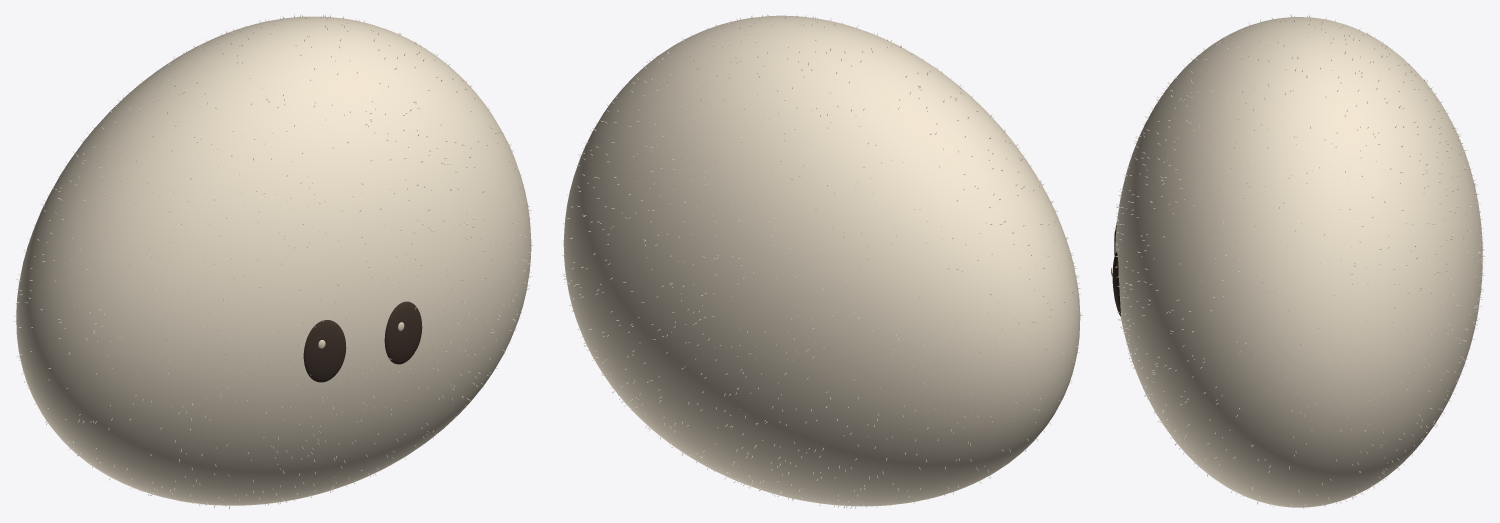
Rendered from pebble.glb.
The picture shows the model from 3 angles, left to right: view 1: azimuth 30°, elevation 25°; view 2: azimuth 150°, elevation 25°; view 3: azimuth 270°, elevation 25°; orthographic projection.
Parts seen in each view (by area): view 1: Pebble · felt body, Felt fibres · 1800 individual solid strands, Eye L, Eye R; view 2: Pebble · felt body, Felt fibres · 1800 individual solid strands; view 3: Pebble · felt body, Felt fibres · 1800 individual solid strands.
Part boxes in pixels (left/top/right/bottom): Pebble · felt body: left=16, top=16, right=531, bottom=505; Felt fibres · 1800 individual solid strands: left=14, top=14, right=533, bottom=508; Eye L: left=303, top=320, right=346, bottom=382; Eye R: left=384, top=301, right=422, bottom=364; Pebble · felt body: left=563, top=15, right=1080, bottom=506; Felt fibres · 1800 individual solid strands: left=562, top=14, right=1082, bottom=508; Pebble · felt body: left=1115, top=17, right=1482, bottom=507; Felt fibres · 1800 individual solid strands: left=1113, top=14, right=1485, bottom=508.
Size of the model in its own units: 2.18 by 1.96 by 1.49.
